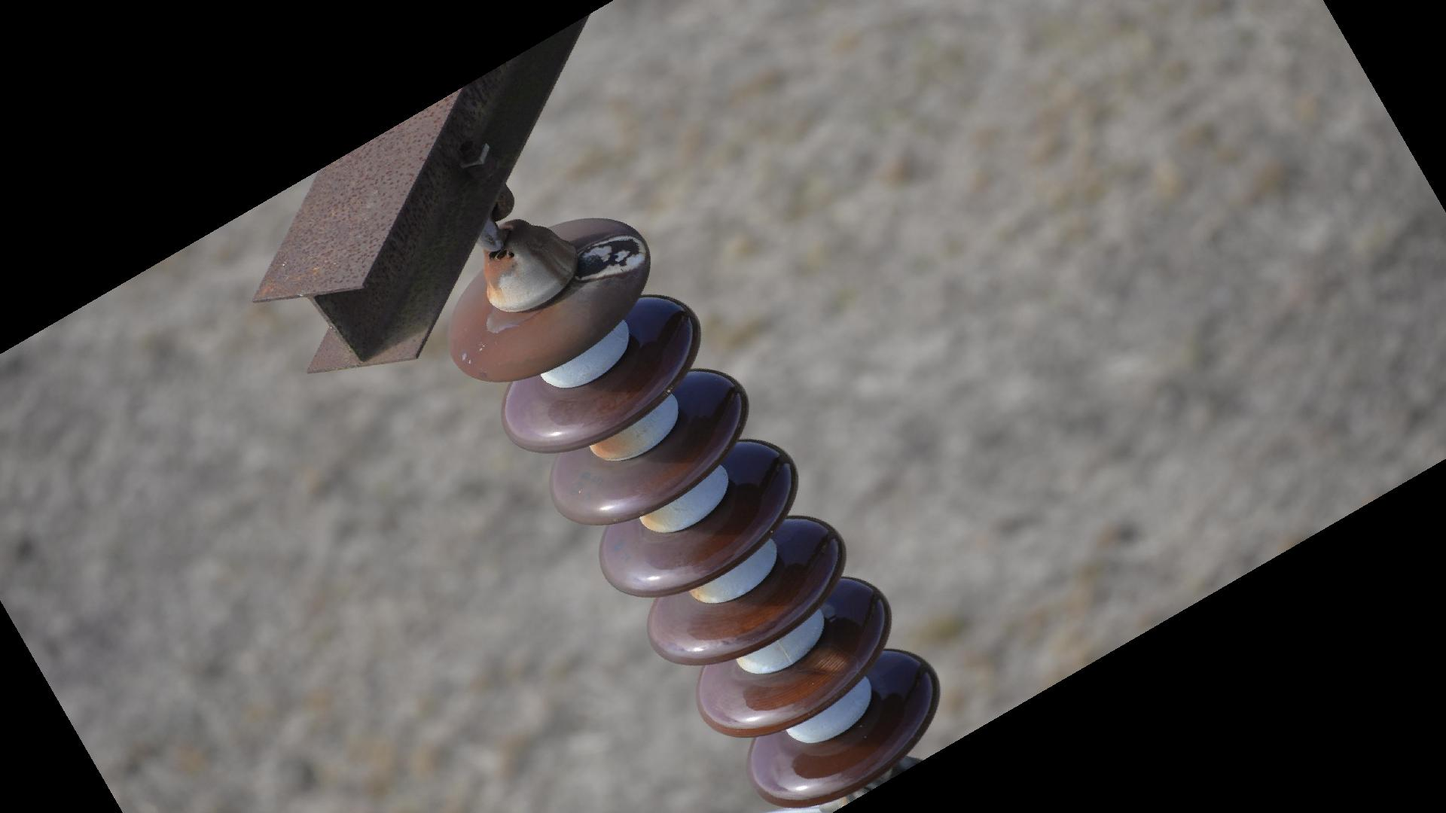insulator: (440, 212, 950, 813)
insulator_flashover: (568, 230, 648, 285)
